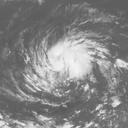cyclone: (22, 20, 117, 97)
